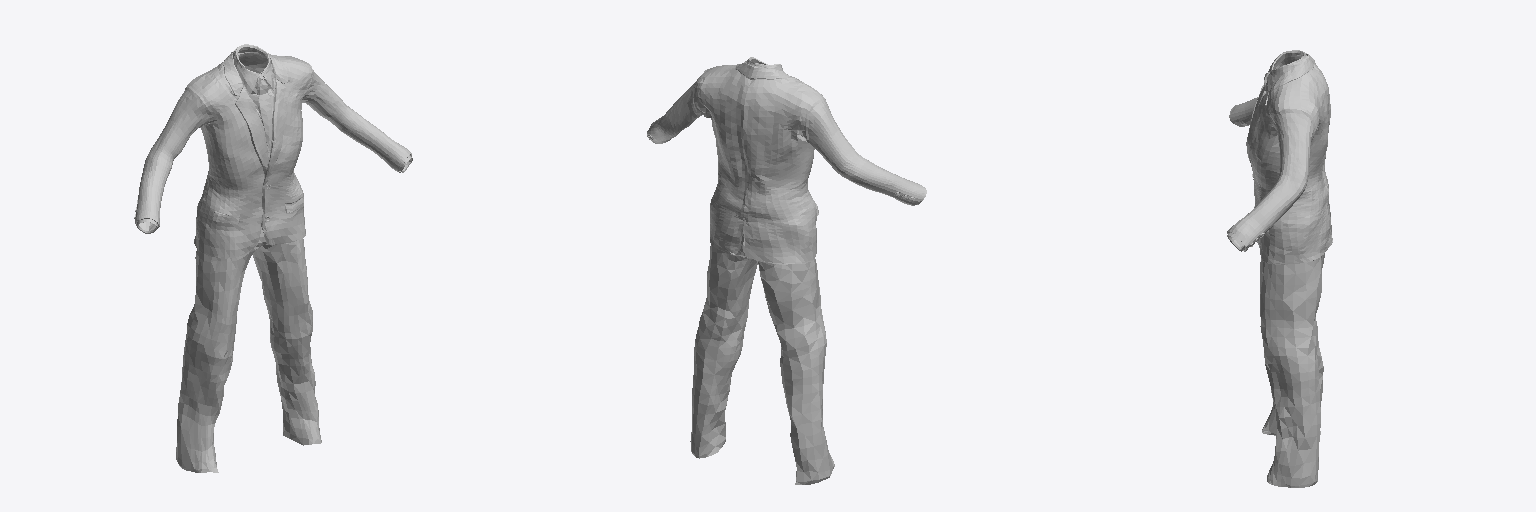
The model's file is suit.obj.
3 renders of one model, left to right at view 1: azimuth 30°, elevation 25°; view 2: azimuth 150°, elevation 25°; view 3: azimuth 270°, elevation 25°, orthographic.
Bounding box in the file's own units: 1.03 × 1.44 × 0.343.